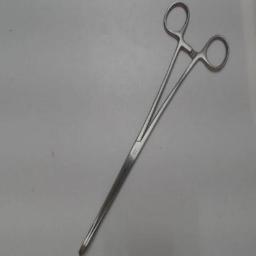Sponge Forceps: (76, 0, 232, 256)
